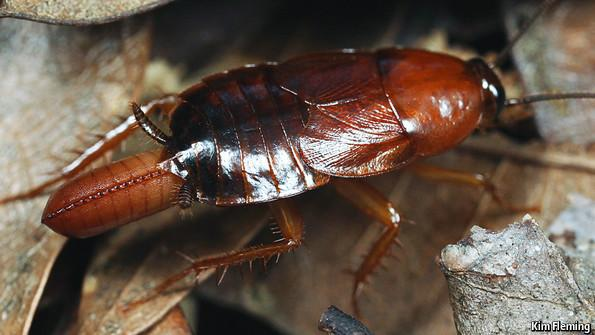cockroach: (164, 42, 523, 282)
